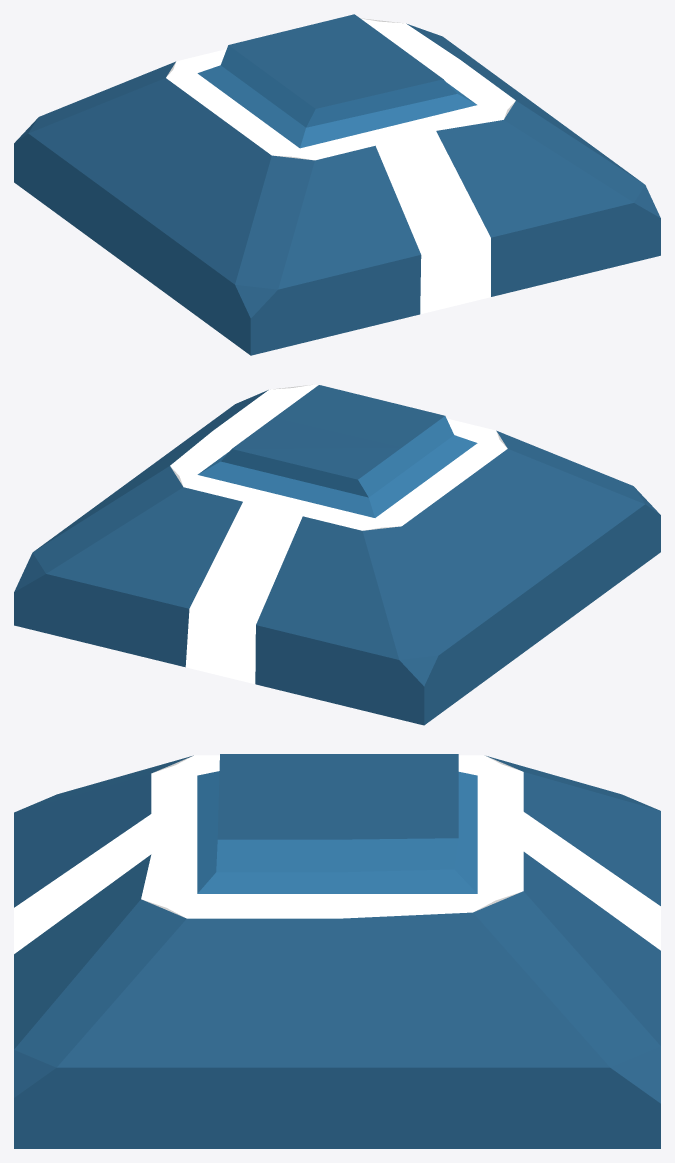
The model's file is turretbase.fbx.
3 views of the same model, one above another, from view 1: azimuth 30°, elevation 25°; view 2: azimuth 150°, elevation 25°; view 3: azimuth 270°, elevation 25° (orthographic). The views are drawn at different scales.
Parts seen in each view (by area): view 1: Cube; view 2: Cube; view 3: Cube.
Boxes of the visible parts, x1,y1,x2,y2 form: Cube: (14, 14, 660, 355); Cube: (14, 384, 660, 725); Cube: (14, 754, 660, 1148).
Size of the model in its own units: 200 by 73.33 by 200.
